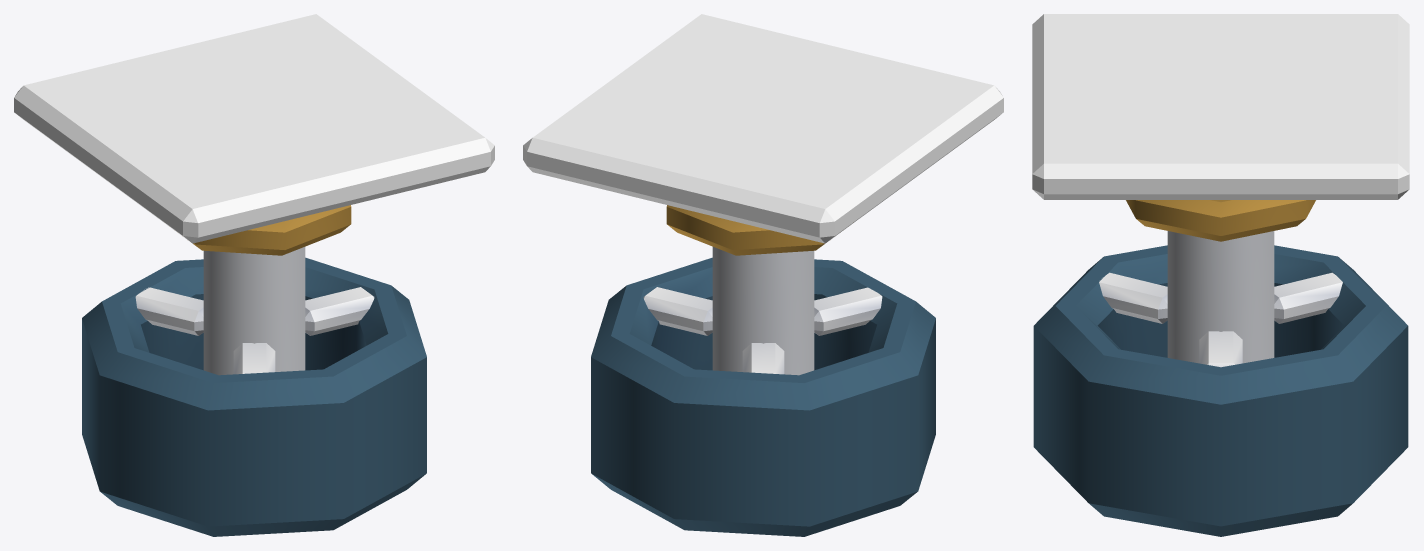
Rendered from R4M_HoverEngine_LOD1.fbx.
The picture shows the model from 3 angles, left to right: view 1: azimuth 30°, elevation 25°; view 2: azimuth 150°, elevation 25°; view 3: azimuth 270°, elevation 25°; orthographic projection. The views are drawn at different scales.
Parts seen in each view (by area): view 1: R4M_HoverEngine_LOD1; view 2: R4M_HoverEngine_LOD1; view 3: R4M_HoverEngine_LOD1.
Part boxes in pixels (left/top/right/bottom): R4M_HoverEngine_LOD1: left=14, top=14, right=494, bottom=536; R4M_HoverEngine_LOD1: left=523, top=14, right=1003, bottom=536; R4M_HoverEngine_LOD1: left=1032, top=14, right=1409, bottom=536.
Bounding box in the file's own units: 0.52 × 0.575 × 0.52.
